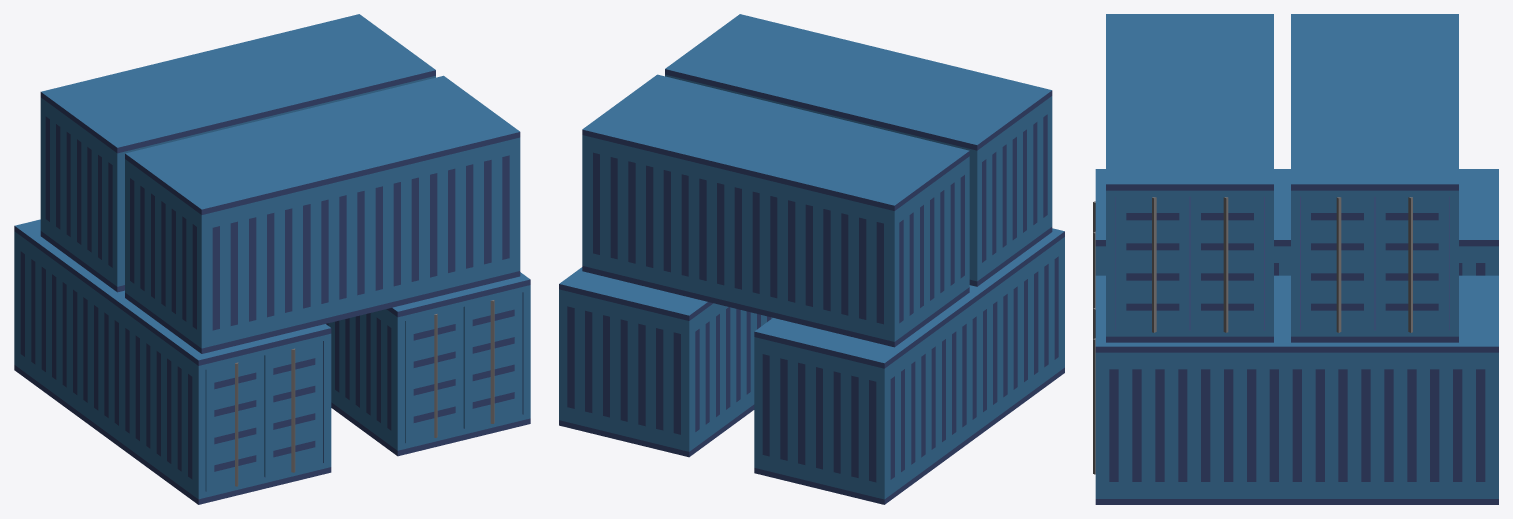
File: containers-col.glb
3 views of the same model, side by side, from view 1: azimuth 30°, elevation 25°; view 2: azimuth 150°, elevation 25°; view 3: azimuth 270°, elevation 25° (orthographic). The views are drawn at different scales.
Parts seen in each view (by area): view 1: cargo_shipping_base_blue_2, cargo_shipping_base_blue_3, cargo_shipping_base_blue, cargo_shipping_base_blue_1, cargo_shipping_door_L_blue, cargo_shipping_door_L_blue_1, cargo_shipping_door_R_blue, cargo_shipping_door_R_blue_1; view 2: cargo_shipping_base_blue_3, cargo_shipping_base_blue, cargo_shipping_base_blue_2, cargo_shipping_base_blue_1; view 3: cargo_shipping_base_blue_1, cargo_shipping_base_blue_2, cargo_shipping_base_blue_3, cargo_shipping_door_L_blue_2, cargo_shipping_door_R_blue_3, cargo_shipping_door_R_blue_2, cargo_shipping_door_L_blue_3, cargo_shipping_base_blue.
Part boxes in pixels (<box>): cargo_shipping_base_blue_2: <box>125,75,520,353</box>; cargo_shipping_base_blue_3: <box>40,14,435,292</box>; cargo_shipping_base_blue: <box>14,219,331,504</box>; cargo_shipping_base_blue_1: <box>326,272,530,456</box>; cargo_shipping_door_L_blue: <box>264,341,323,477</box>; cargo_shipping_door_L_blue_1: <box>463,292,522,428</box>; cargo_shipping_door_R_blue: <box>205,355,264,491</box>; cargo_shipping_door_R_blue_1: <box>405,307,463,443</box>; cargo_shipping_base_blue_3: <box>582,74,969,347</box>; cargo_shipping_base_blue: <box>754,228,1064,504</box>; cargo_shipping_base_blue_2: <box>665,14,1052,286</box>; cargo_shipping_base_blue_1: <box>559,267,772,457</box>; cargo_shipping_base_blue_1: <box>1095,275,1498,504</box>; cargo_shipping_base_blue_2: <box>1106,14,1273,342</box>; cargo_shipping_base_blue_3: <box>1291,14,1458,342</box>; cargo_shipping_door_L_blue_2: <box>1190,196,1263,332</box>; cargo_shipping_door_R_blue_3: <box>1301,196,1374,332</box>; cargo_shipping_door_R_blue_2: <box>1116,196,1189,332</box>; cargo_shipping_door_L_blue_3: <box>1375,196,1448,332</box>; cargo_shipping_base_blue: <box>1095,169,1498,275</box>.
Size of the model in its own units: 6.25 by 5.22 by 6.04.
Materials: 1 (1 with a texture image).
